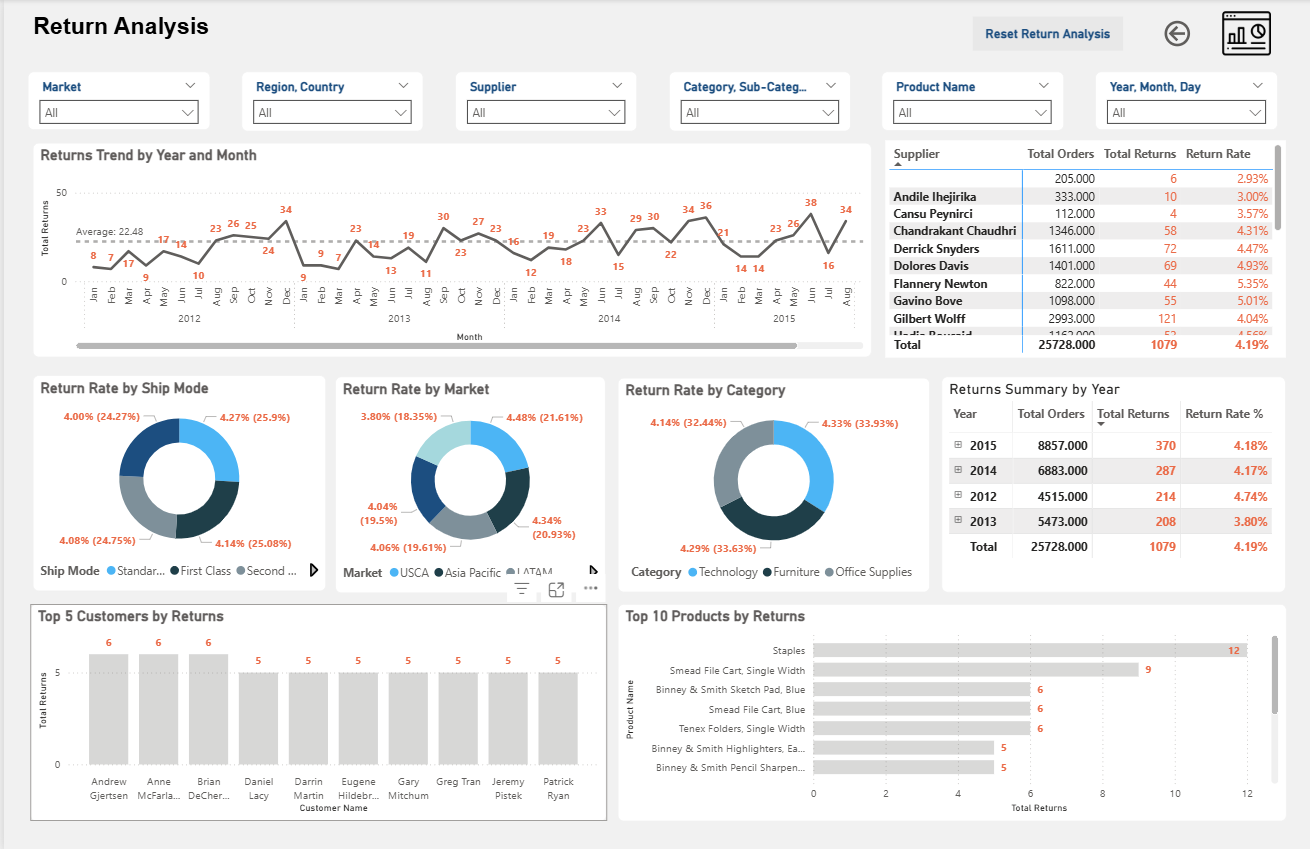

This screenshot's page, from the dashboard's own definition file:
{"tool":"powerbi","page":{"name":"Return Analysis","canvas":[1500,980],"ordinal":2},"visuals":[{"type":"textbox","box":[28,12,587.2,46.2],"z":0},{"type":"image","box":[1391,12,71.6,56.2],"z":1000},{"type":"slicer","fields":{"Values":["Orders.Market"]},"box":[27.8,83.5,209.7,66.8],"z":2000},{"type":"slicer","fields":{"Values":["Orders.Region","Orders.Country"]},"box":[273.4,83,209,68.7],"z":3000},{"type":"slicer","fields":{"Values":["Orders.Category","Orders.Sub-Category"]},"box":[763.1,83.5,209,68.7],"z":4000},{"type":"slicer","fields":{"Values":["Orders.Product Name"]},"box":[1007.7,83.1,209.2,67.7],"z":5000},{"type":"slicer","fields":{"Values":["Calendar.Year","Calendar.MonthSort","Calendar.Day"]},"box":[1252.8,83,209.7,66.8],"z":6000},{"type":"lineChart","title":"Returns Trend by Year and Month","fields":{"Category":["Calendar.Year","Calendar.MonthSort"],"Y":["Returns.Total Returns"]},"box":[32.3,164.6,963.1,246.2],"z":7000},{"type":"donutChart","title":"Return Rate by Market","fields":{"Y":["Returns.Return Rate"],"Category":["Orders.Market"]},"box":[380.9,433,310.7,248.5],"z":8000},{"type":"donutChart","title":"Return Rate by Category","fields":{"Y":["Returns.Return Rate"],"Category":["Orders.Category","Orders.Sub-Category"]},"box":[704.9,434.7,358.8,246.2],"z":9000},{"type":"pivotTable","title":"Returns Summary by Year","fields":{"Rows":["Calendar.Year","Calendar.MonthSort"],"Values":["Orders.Total Orders","Returns.Total Returns","Returns.Return Rate"]},"box":[1076.9,433.8,395.4,247.7],"z":10000},{"type":"lineClusteredColumnComboChart","title":"Top 5 Customers by Returns","fields":{"Category":["Orders.Customer Name"],"Y":["Returns.Total Returns"]},"box":[30.8,695.4,661.5,249.2],"z":11000},{"type":"clusteredBarChart","title":"Top 10 Products by Returns","fields":{"Category":["Orders.Product Name"],"Y":["Returns.Total Returns"]},"box":[704.6,695.4,767.7,249.2],"z":12000},{"type":"donutChart","title":"Return Rate by Ship Mode","fields":{"Category":["Orders.Ship Mode"],"Y":["Returns.Return Rate"]},"box":[32.3,432.3,336.9,247.7],"z":13000},{"type":"actionButton","box":[1327.4,20.3,100.1,39.2],"z":14000},{"type":"slicer","fields":{"Values":["People.Person"]},"box":[518.3,83,209,68.7],"z":15000},{"type":"pivotTable","fields":{"Values":["Orders.Total Orders","Returns.Total Returns","Returns.Return Rate"],"Rows":["People.Person"]},"box":[1012.3,161.5,460,249.2],"z":16000},{"type":"actionButton","box":[1112.7,20.3,172.6,39.2],"z":16001}]}

Visuals, with their boxes in screenshot pixels (x1, y1, x2, y2), scaled from the page's 1500x980 canvas onto the 1310x849 screenshot:
textbox: bbox=[24, 10, 537, 50]
image: bbox=[1215, 10, 1277, 59]
slicer - Orders.Market: bbox=[24, 72, 207, 130]
slicer - Orders.Region x Orders.Country: bbox=[239, 72, 421, 131]
slicer - Orders.Category x Orders.Sub-Category: bbox=[666, 72, 849, 132]
slicer - Orders.Product Name: bbox=[880, 72, 1063, 131]
slicer - Calendar.Year x Calendar.MonthSort: bbox=[1094, 72, 1277, 130]
"Returns Trend by Year and Month" lineChart: bbox=[28, 143, 869, 356]
"Return Rate by Market" donutChart: bbox=[333, 375, 604, 590]
"Return Rate by Category" donutChart: bbox=[616, 377, 929, 590]
"Returns Summary by Year" pivotTable: bbox=[940, 376, 1286, 590]
"Top 5 Customers by Returns" lineClusteredColumnComboChart: bbox=[27, 602, 605, 818]
"Top 10 Products by Returns" clusteredBarChart: bbox=[615, 602, 1286, 818]
"Return Rate by Ship Mode" donutChart: bbox=[28, 375, 322, 589]
actionButton: bbox=[1159, 18, 1247, 52]
slicer - People.Person: bbox=[453, 72, 635, 131]
pivotTable - Orders.Total Orders x Returns.Total Returns: bbox=[884, 140, 1286, 356]
actionButton: bbox=[972, 18, 1122, 52]
